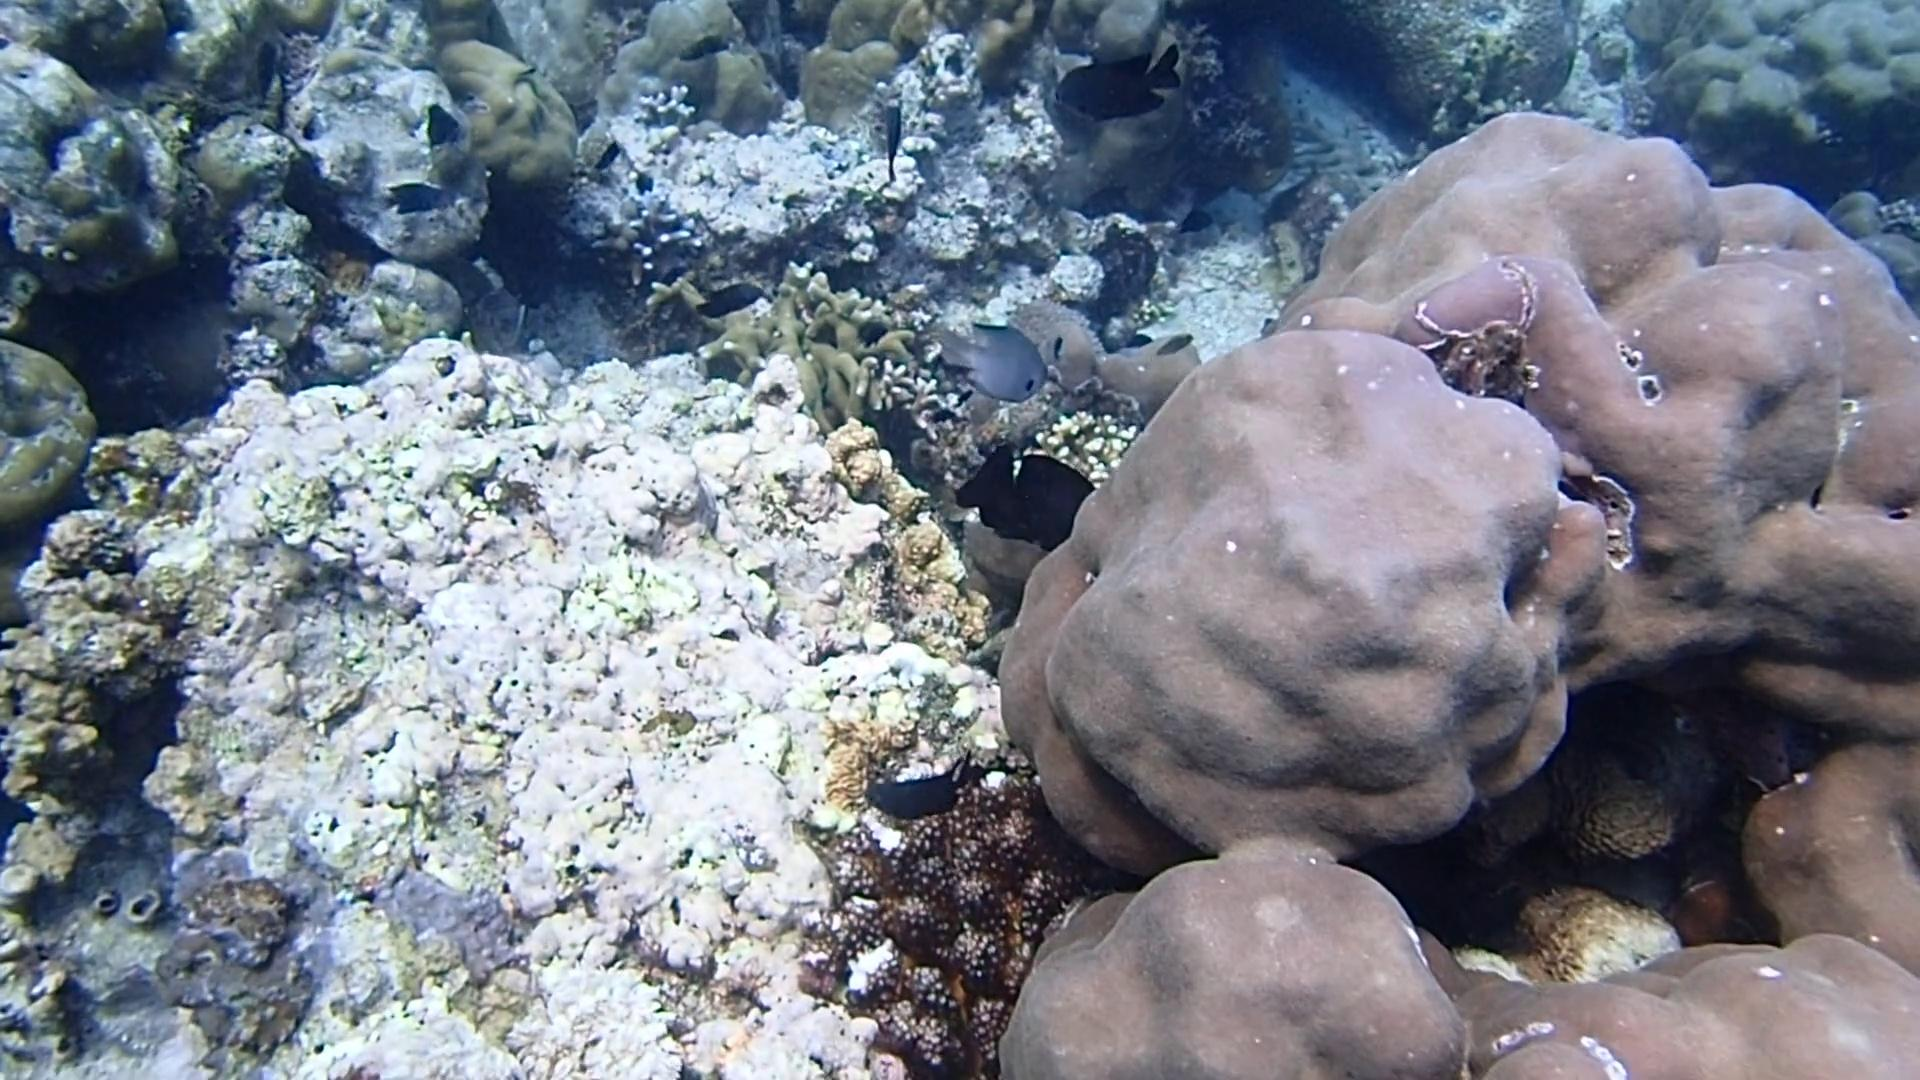Dark Fish: (945, 433, 1106, 558), (1043, 34, 1184, 141), (855, 757, 988, 832), (692, 276, 766, 324), (247, 30, 290, 105), (380, 178, 459, 219), (413, 92, 464, 153), (877, 100, 911, 187), (584, 132, 632, 179), (849, 311, 893, 355)
Light Fish - Dark Fin: (923, 299, 1060, 410)
